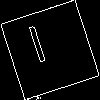I: (25, 24, 53, 73)
